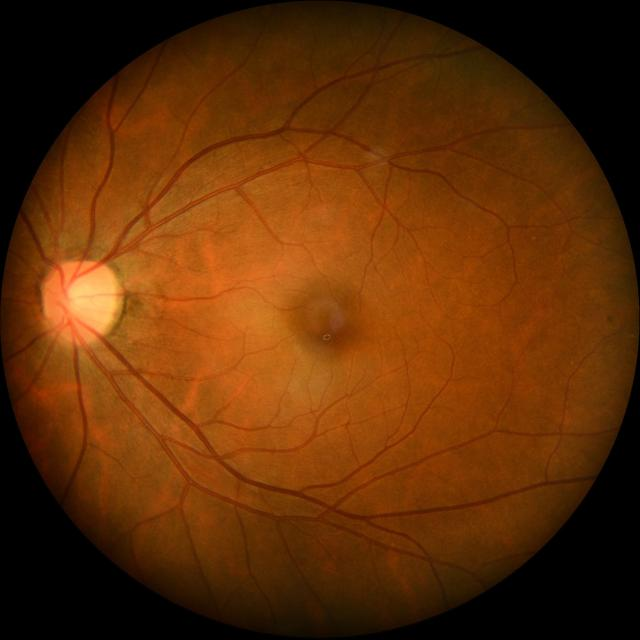OC: (62, 281, 97, 317)
OD: (42, 259, 118, 343)
